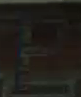Parking: (9, 9, 71, 96)
